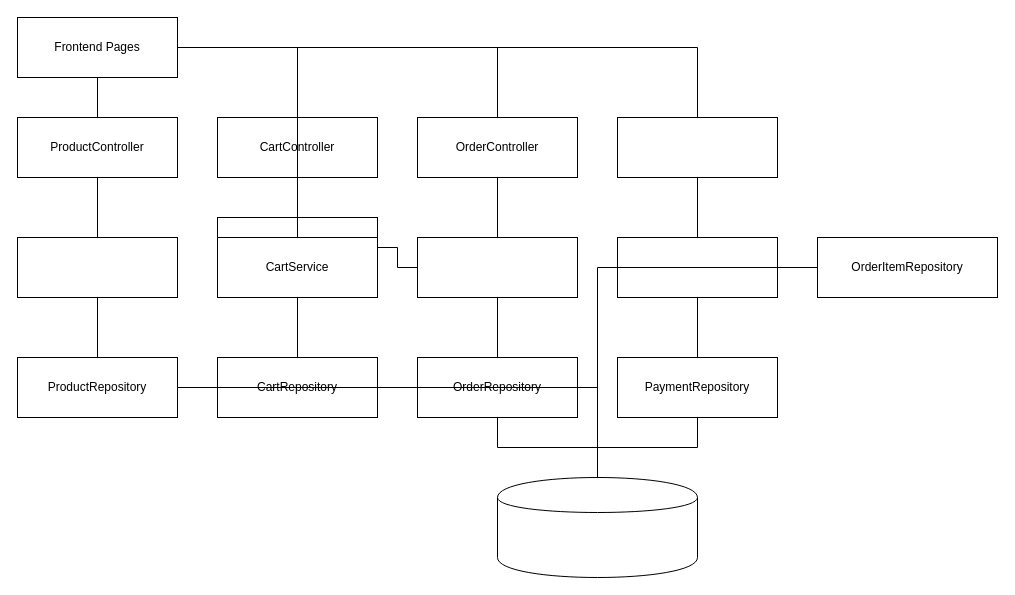
The diagram is 1015 pixels wide and 595 high, and some of its shapes have lost their labels. Here are the shapes that lost their labels. From the top down, the centre of each, then its label:
(697,147): PaymentController
(97,267): ProductService
(497,267): OrderService
(697,267): PaymentService
(597,527): MySQL Database
